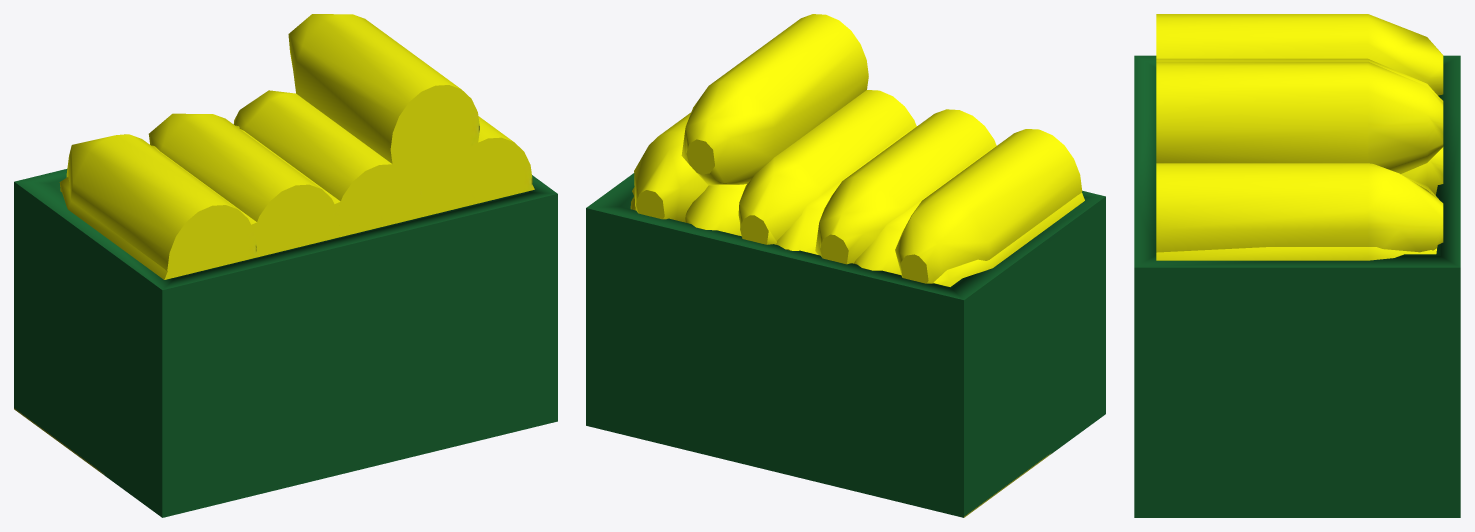
File: Ammo.fbx
3 renders of one model, left to right at view 1: azimuth 30°, elevation 25°; view 2: azimuth 150°, elevation 25°; view 3: azimuth 270°, elevation 25°, orthographic. The views are drawn at different scales.
Visible parts, largest first — view 1: Ammo; view 2: Ammo; view 3: Ammo.
Part boxes in pixels (x1,y1,x2,y2): Ammo: (14, 14, 557, 517); Ammo: (586, 14, 1105, 517); Ammo: (1134, 14, 1460, 517).
Bounding box in the file's own units: 2.33 × 2 × 1.51.
